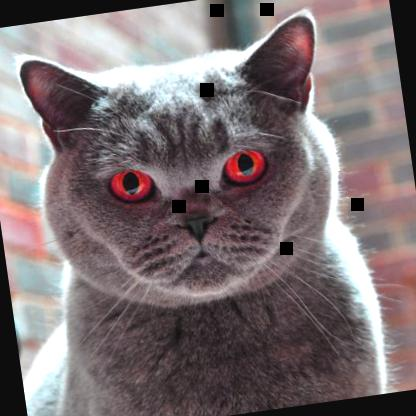cat: (0, 9, 392, 415)
